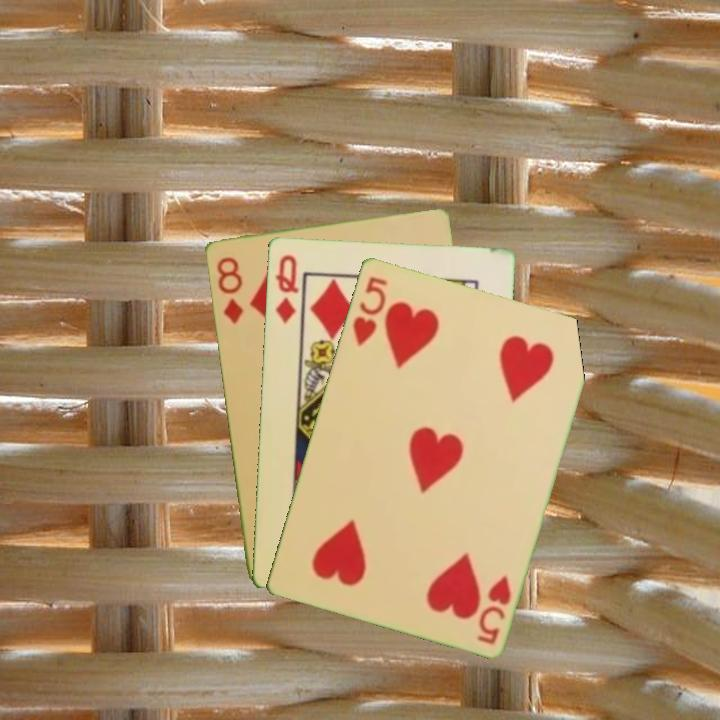5h: (349, 272, 390, 348), (473, 571, 514, 647)
8d: (212, 253, 246, 327)
Qd: (271, 250, 301, 327)
